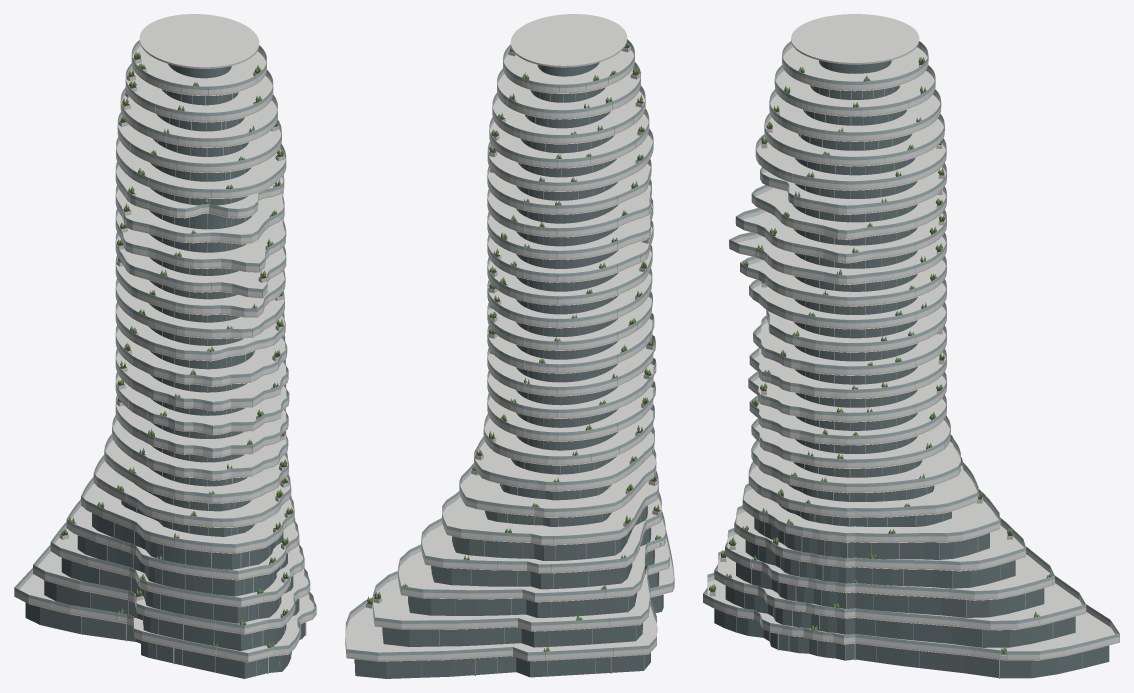
The model's file is skanderbeg-building-near.glb.
3 views of the same model, side by side, from view 1: azimuth 30°, elevation 25°; view 2: azimuth 150°, elevation 25°; view 3: azimuth 270°, elevation 25° (orthographic). The views are drawn at different scales.
Visible parts, largest first — view 1: Skanderbeg Building porcelain, Skanderbeg Building recessed-glazing, Skanderbeg Building gradient-low, Skanderbeg Building gradient-high, Skanderbeg Building aluminium, Skanderbeg Building leaves, Skanderbeg Building balcony-led; view 2: Skanderbeg Building porcelain, Skanderbeg Building recessed-glazing, Skanderbeg Building gradient-low, Skanderbeg Building gradient-high, Skanderbeg Building aluminium, Skanderbeg Building leaves, Skanderbeg Building balcony-led; view 3: Skanderbeg Building porcelain, Skanderbeg Building recessed-glazing, Skanderbeg Building gradient-low, Skanderbeg Building gradient-high, Skanderbeg Building aluminium, Skanderbeg Building leaves, Skanderbeg Building balcony-led.
Part boxes in pixels (x1,y1,x2,y2): Skanderbeg Building porcelain: (14,14,316,662); Skanderbeg Building recessed-glazing: (26,64,305,678); Skanderbeg Building gradient-low: (14,43,316,660); Skanderbeg Building gradient-high: (14,40,316,656); Skanderbeg Building aluminium: (14,40,316,675); Skanderbeg Building leaves: (61,51,293,647); Skanderbeg Building balcony-led: (31,83,308,662); Skanderbeg Building porcelain: (345,14,674,661); Skanderbeg Building recessed-glazing: (354,62,663,678); Skanderbeg Building gradient-low: (345,43,674,659); Skanderbeg Building gradient-high: (345,40,674,655); Skanderbeg Building aluminium: (345,39,674,677); Skanderbeg Building leaves: (367,42,662,651); Skanderbeg Building balcony-led: (386,78,671,661); Skanderbeg Building porcelain: (703,14,1119,660); Skanderbeg Building recessed-glazing: (714,60,1109,678); Skanderbeg Building gradient-low: (703,44,1119,658); Skanderbeg Building gradient-high: (703,41,1119,654); Skanderbeg Building aluminium: (703,41,1119,678); Skanderbeg Building leaves: (708,57,1052,653); Skanderbeg Building balcony-led: (725,79,1039,660).
Bounding box in the file's own units: 40.64 × 85 × 55.43.
